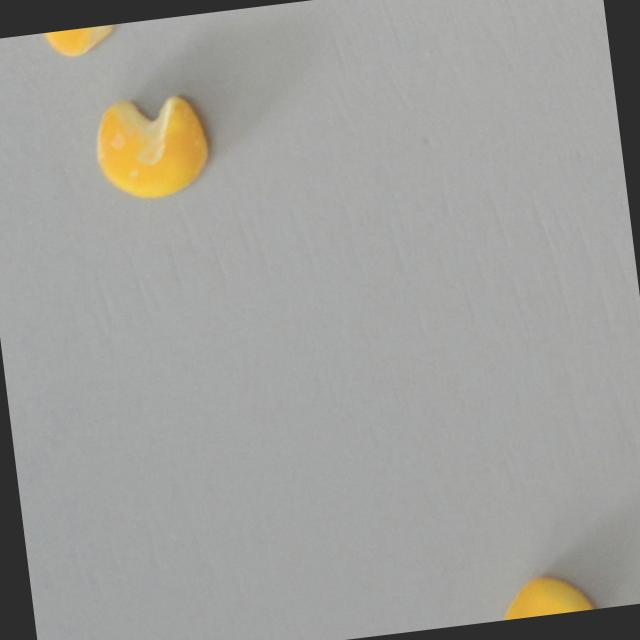pelicula: (89, 89, 214, 202), (36, 23, 119, 58)
